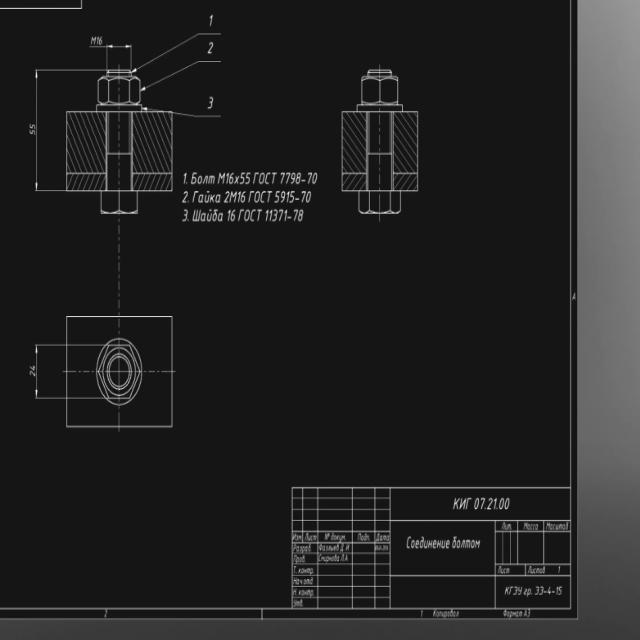marking_line: (35, 71, 40, 193), (36, 347, 40, 397), (109, 43, 131, 51)
numeric: (207, 94, 215, 111), (207, 14, 215, 27), (208, 41, 214, 54), (98, 35, 102, 46), (30, 129, 36, 135), (30, 371, 35, 377), (30, 124, 36, 129), (29, 366, 36, 370), (96, 37, 99, 45)
